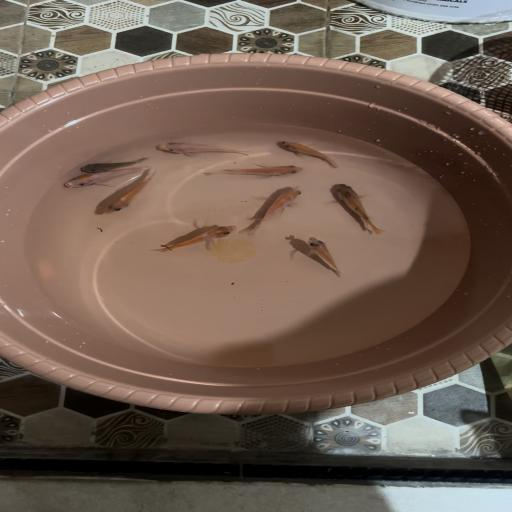nila: (89, 172, 174, 218), (237, 184, 313, 235), (328, 181, 390, 238), (149, 222, 242, 258), (271, 134, 344, 170), (56, 165, 148, 193), (202, 162, 305, 184), (296, 235, 348, 277), (149, 139, 258, 159), (76, 156, 161, 173)
